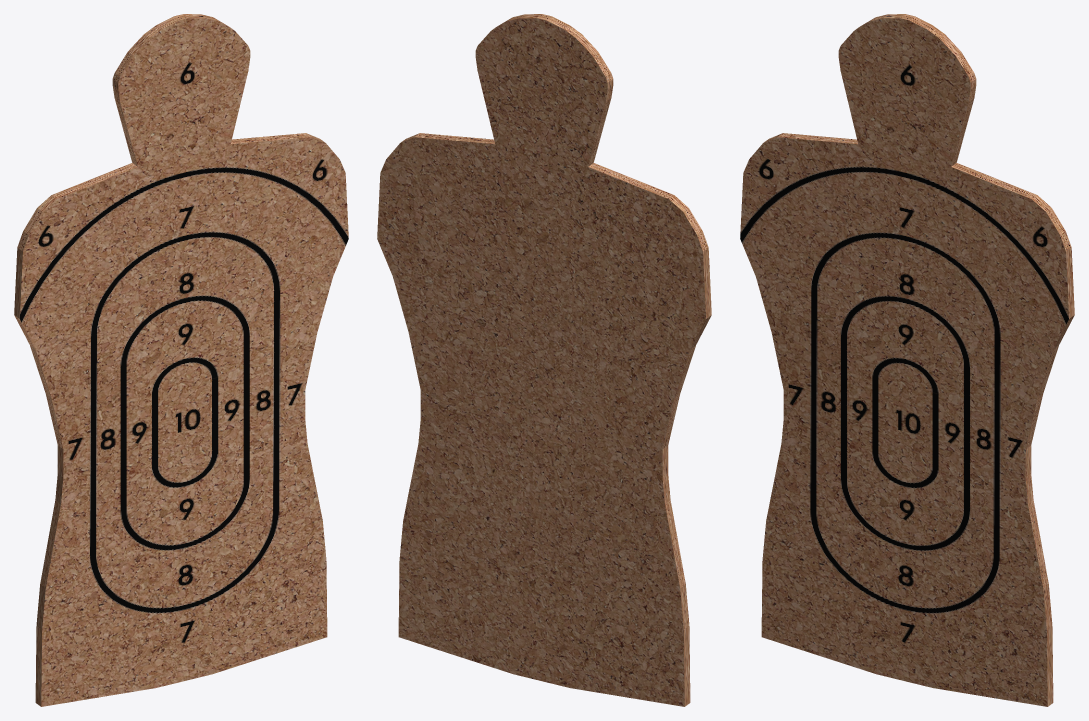
The model's file is Cible humaine.fbx.
The picture shows the model from 3 angles, left to right: view 1: azimuth 30°, elevation 25°; view 2: azimuth 150°, elevation 25°; view 3: azimuth 330°, elevation 25°; orthographic projection.
Parts seen in each view (by area): view 1: Cible; view 2: Cible; view 3: Cible.
Boxes of the visible parts, x1,y1,x2,y2 form: Cible: (14,14,348,706); Cible: (377,14,711,706); Cible: (740,14,1074,706).
Size of the model in its own units: 6.12 by 11.76 by 0.1823.
